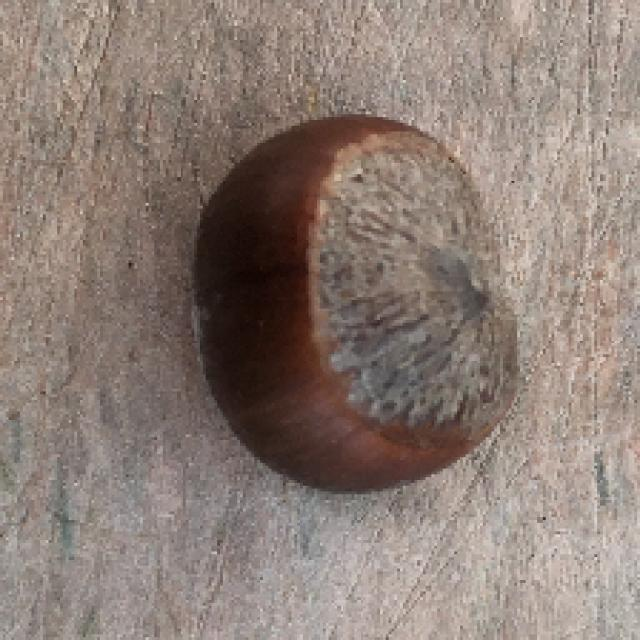DamagedHazelnut: (192, 112, 515, 497)
